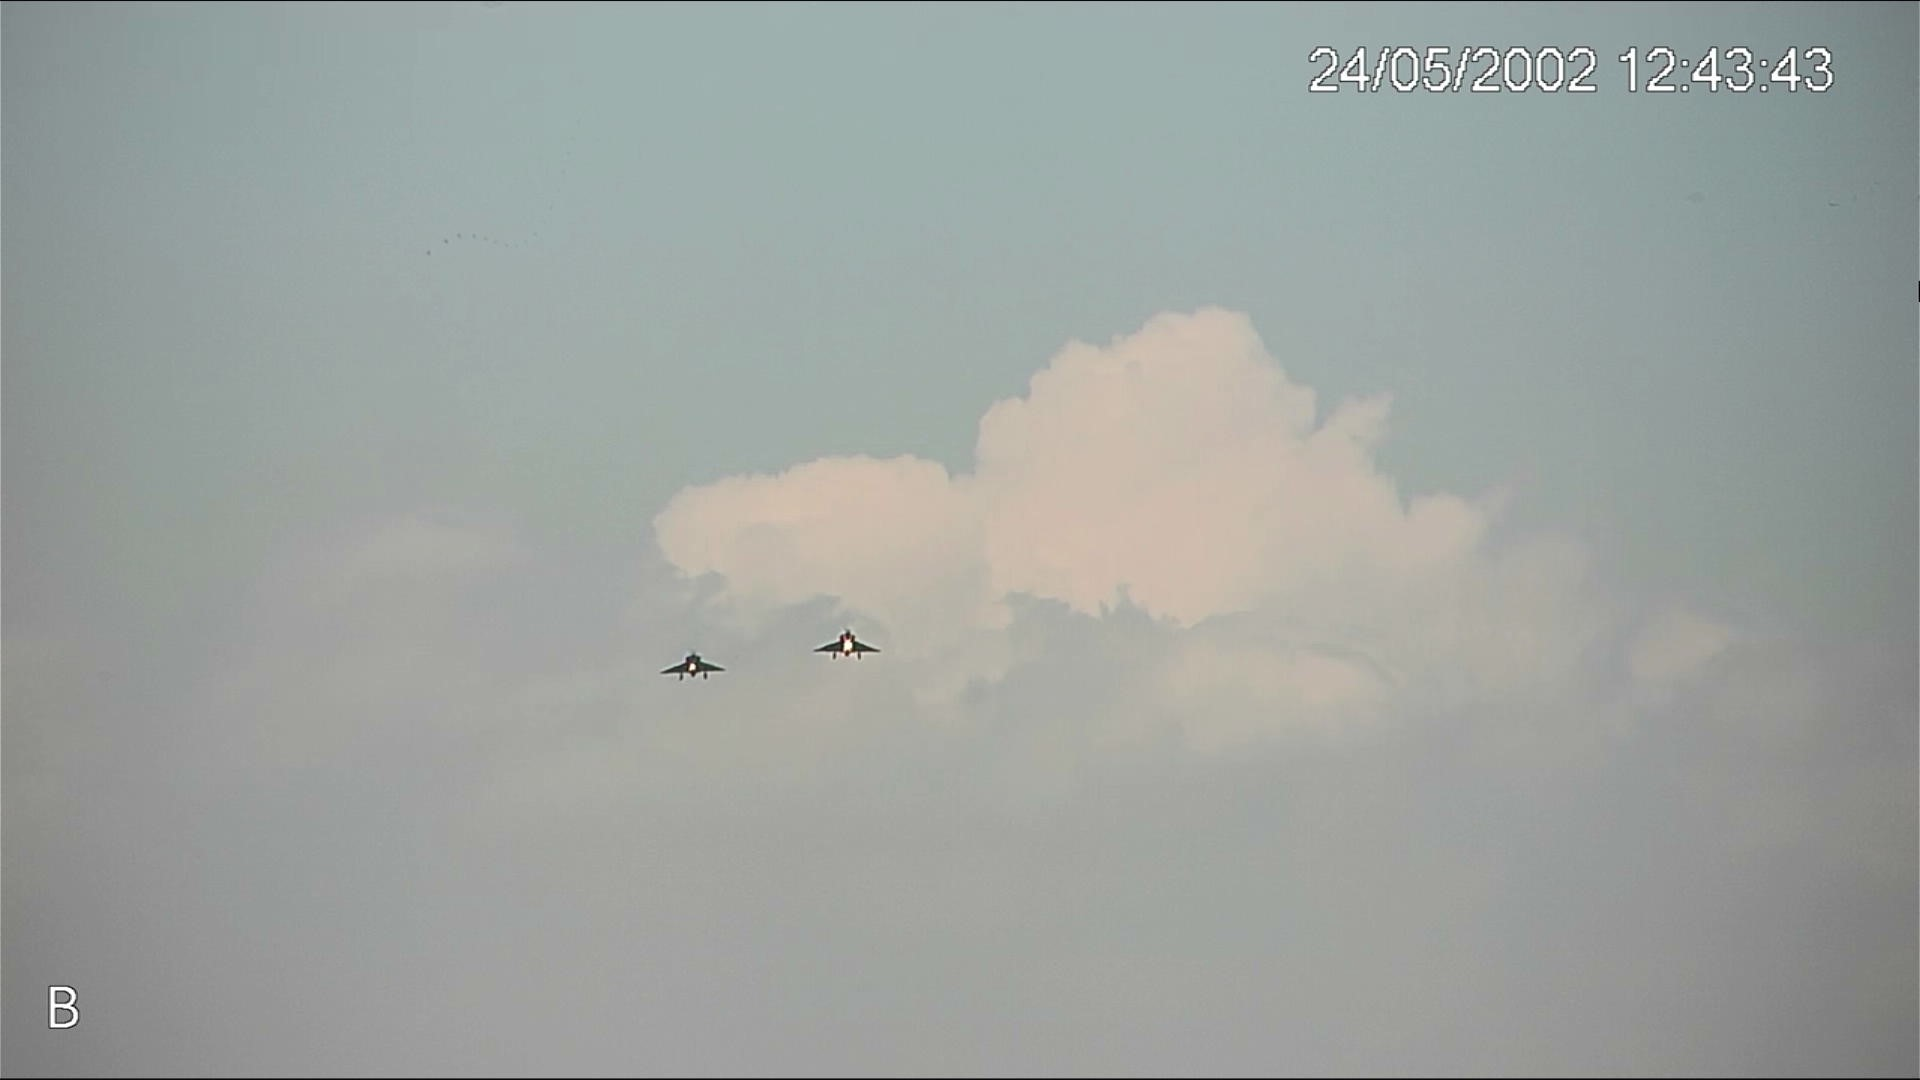SU_30: (659, 651, 727, 684), (810, 630, 884, 659)
